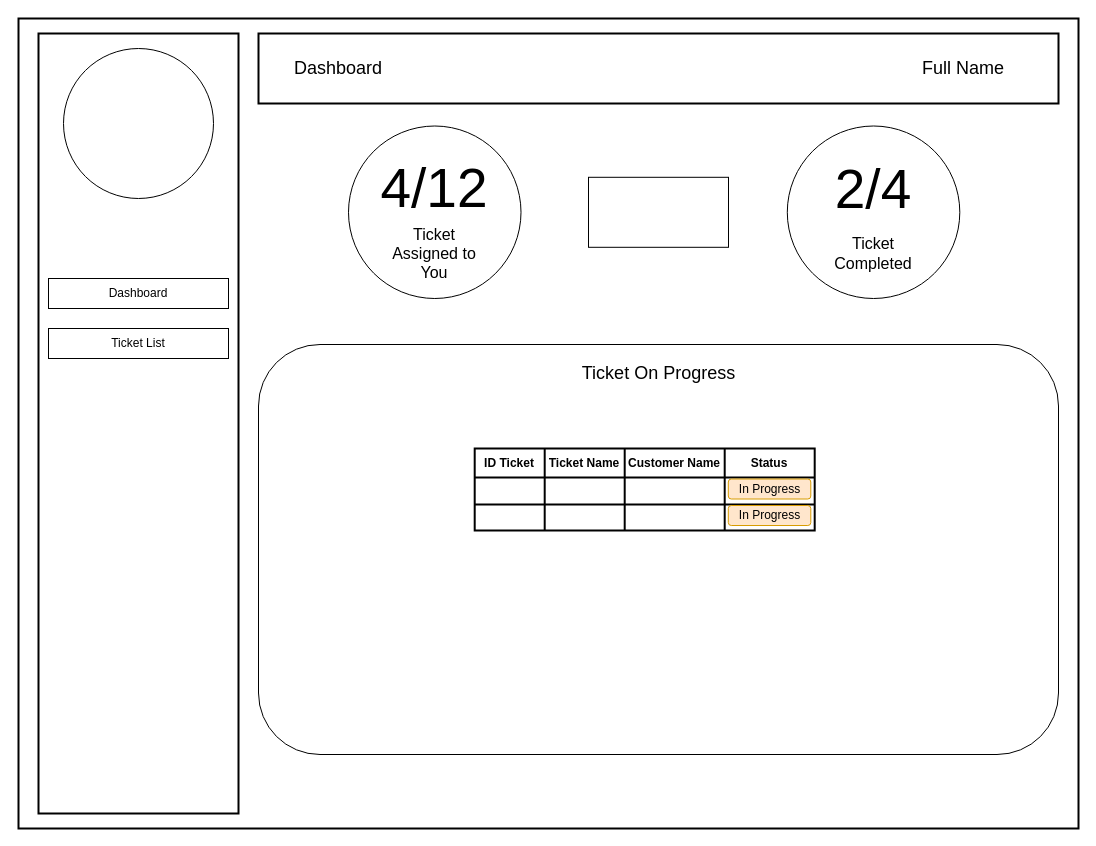
Image size: 1096x846. Some labels were removed from this diagram. The shapes that lost their labels are listed below. From the top down, each one's centre as x and y in pixels, then its label:
At point 138,123: "Logo".
At point 658,211: "Sat, 19 Oct 2024 Week 41".
